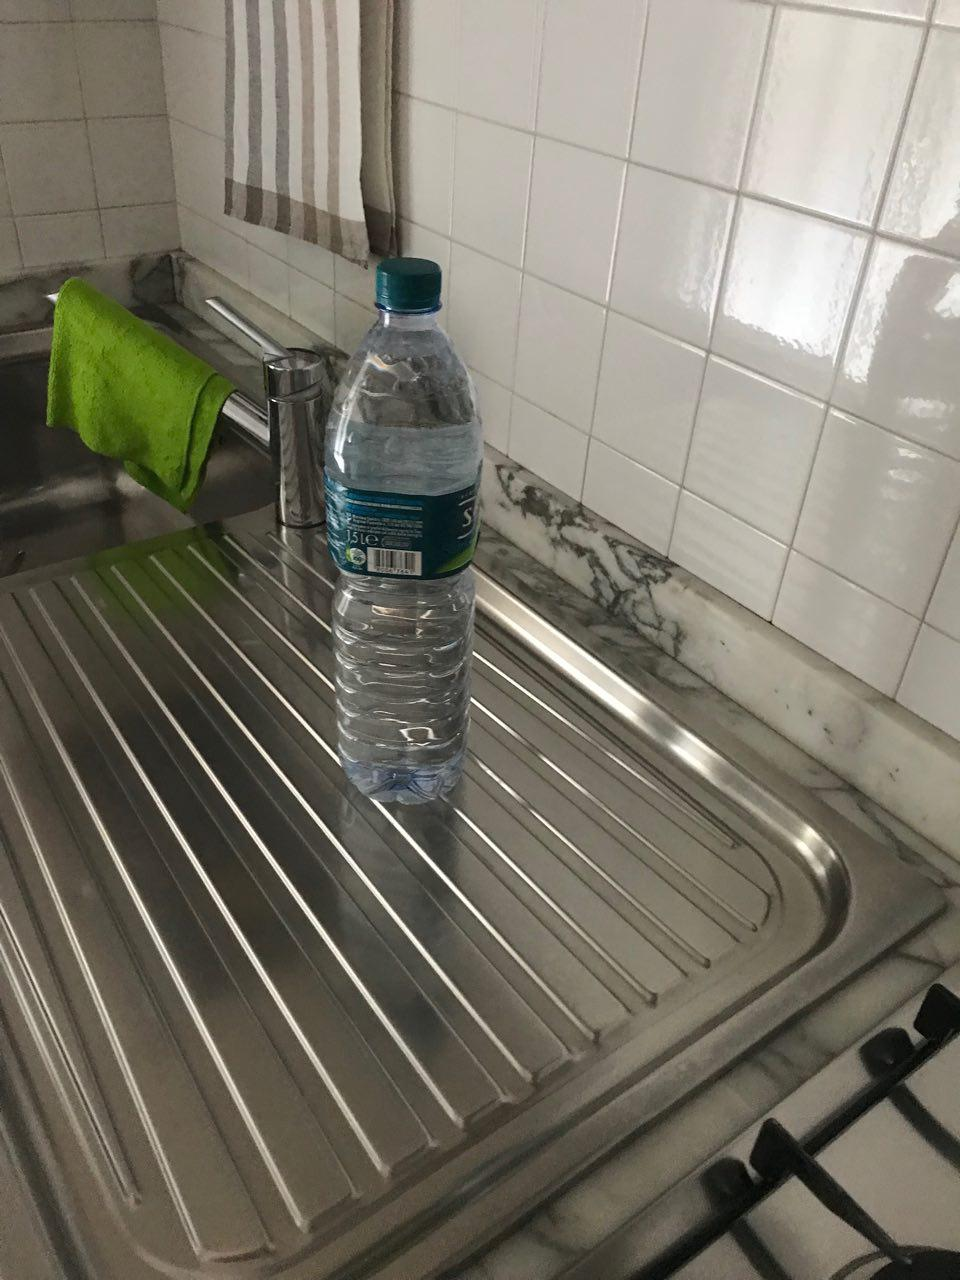san_bernardo: (323, 257, 483, 804)
